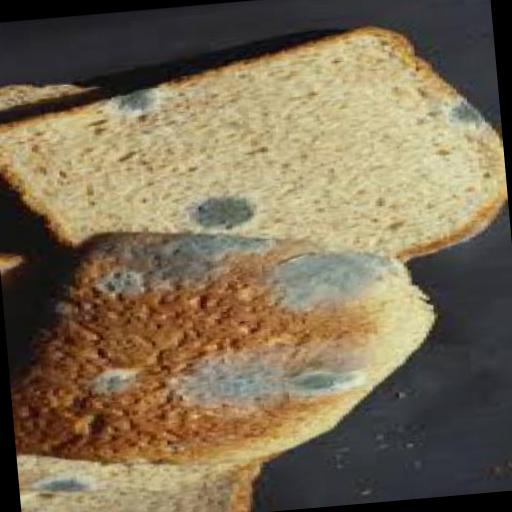biodegradable: (0, 16, 511, 298), (1, 205, 452, 485), (0, 76, 133, 291), (20, 431, 290, 512)
